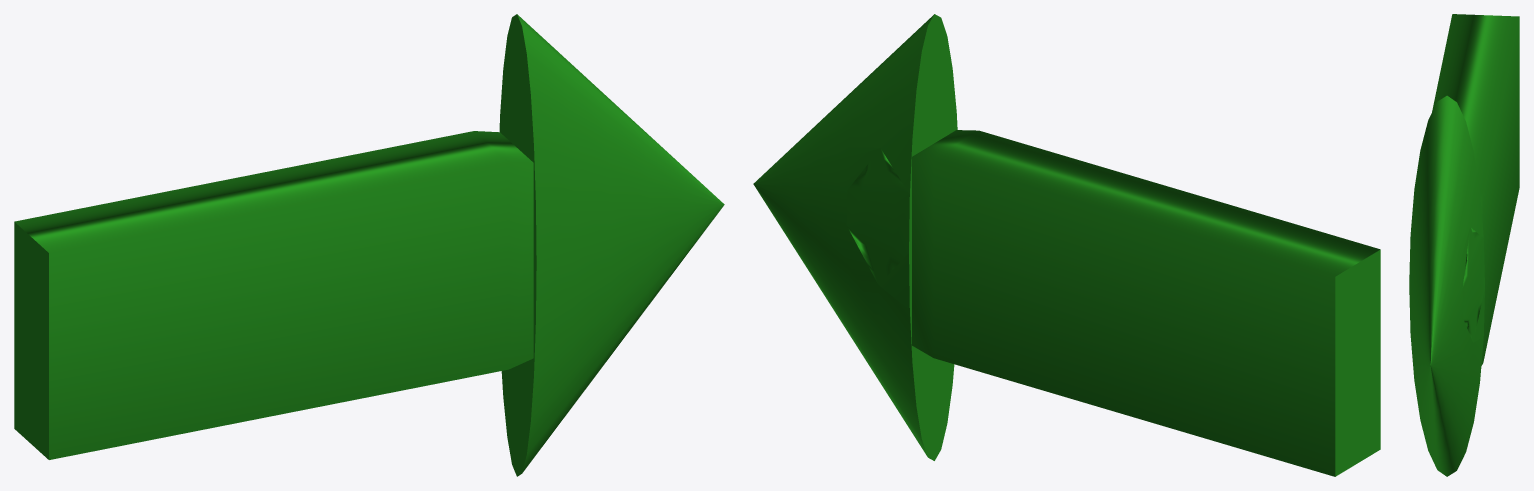
Rendered from right blinker light.fbx.
3 views of the same model, side by side, from view 1: azimuth 30°, elevation 25°; view 2: azimuth 150°, elevation 25°; view 3: azimuth 270°, elevation 25° (orthographic). The views are drawn at different scales.
Visible parts, largest first — view 1: Right blinker light; view 2: Right blinker light; view 3: Right blinker light.
Boxes of the visible parts, x1,y1,x2,y2 form: Right blinker light: (14,14,724,476); Right blinker light: (753,14,1380,476); Right blinker light: (1409,14,1519,476).
Bounding box in the file's own units: 2.02 × 1.35 × 0.3537.
